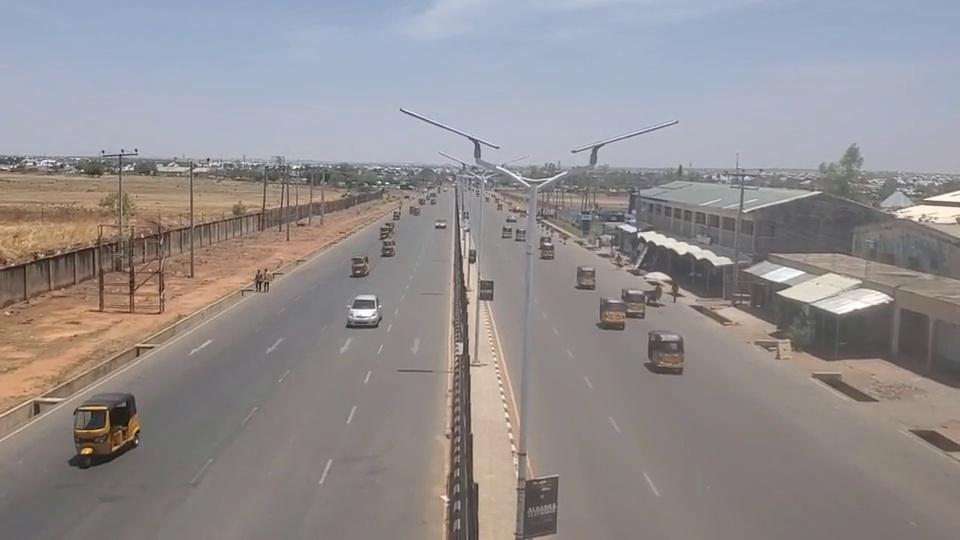car: (346, 294, 382, 327)
keke: (72, 391, 140, 464), (647, 330, 686, 373), (599, 298, 627, 329), (621, 289, 646, 318), (576, 266, 595, 288), (351, 256, 370, 276), (540, 238, 555, 259), (381, 239, 396, 257), (515, 227, 526, 241)
